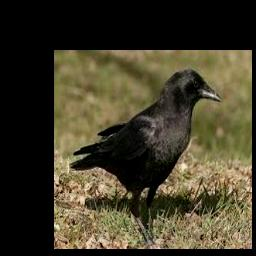Crow: (71, 68, 221, 249)
